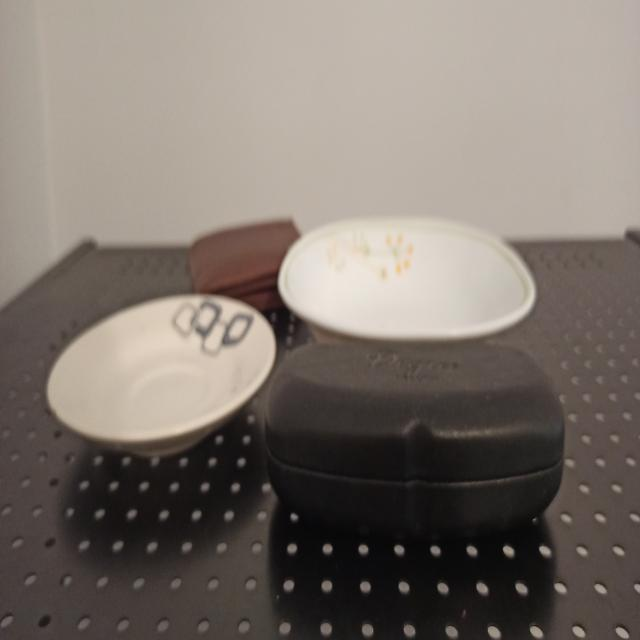ceramic plate: (30, 282, 284, 468), (270, 196, 548, 362)
